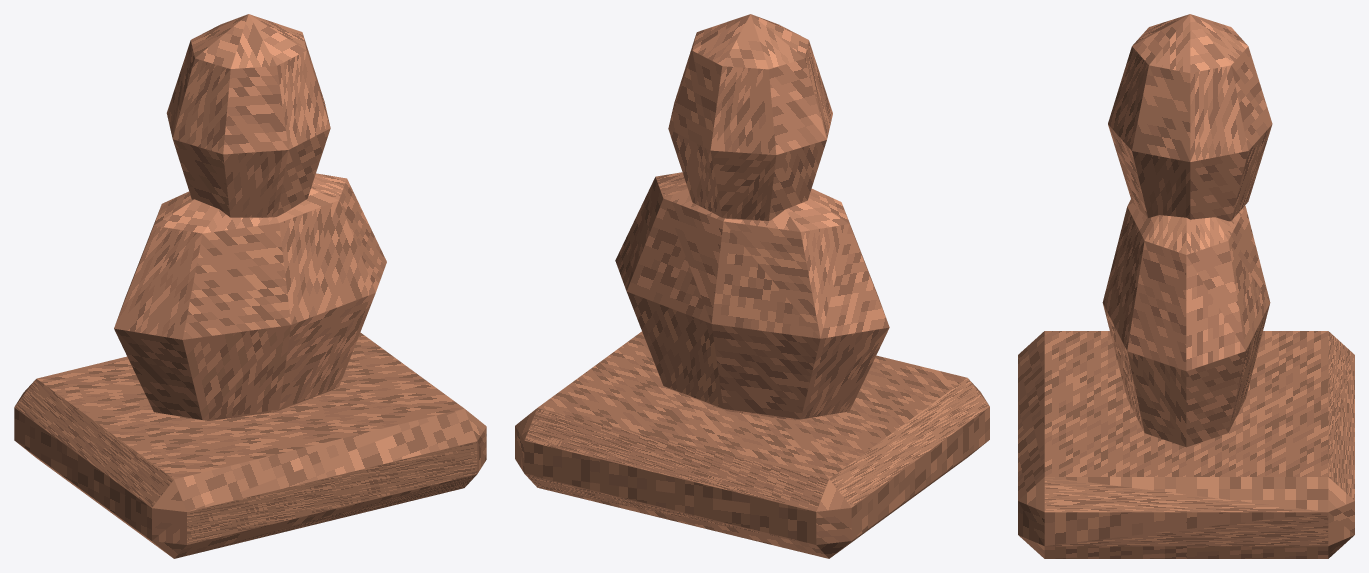
Rendered from sculpture_clay.glb.
3 views of the same model, side by side, from view 1: azimuth 30°, elevation 25°; view 2: azimuth 150°, elevation 25°; view 3: azimuth 270°, elevation 25° (orthographic). The views are drawn at different scales.
Parts seen in each view (by area): view 1: block_plinth, block_carved shoulders, block_carved head; view 2: block_plinth, block_carved shoulders, block_carved head; view 3: block_plinth, block_carved shoulders, block_carved head.
Boxes of the visible parts, left/top/right/bottom form: block_plinth: left=14, top=332, right=486, bottom=558; block_carved shoulders: left=114, top=173, right=386, bottom=420; block_carved head: left=166, top=14, right=330, bottom=217; block_plinth: left=515, top=331, right=989, bottom=558; block_carved shoulders: left=615, top=172, right=889, bottom=420; block_carved head: left=668, top=14, right=832, bottom=221; block_plinth: left=1018, top=331, right=1354, bottom=558; block_carved shoulders: left=1102, top=199, right=1270, bottom=447; block_carved head: left=1108, top=14, right=1272, bottom=221.
Bounding box in the file's own units: 0.2297 × 0.3 × 0.1941.
Materials: 1 (1 with a texture image).
